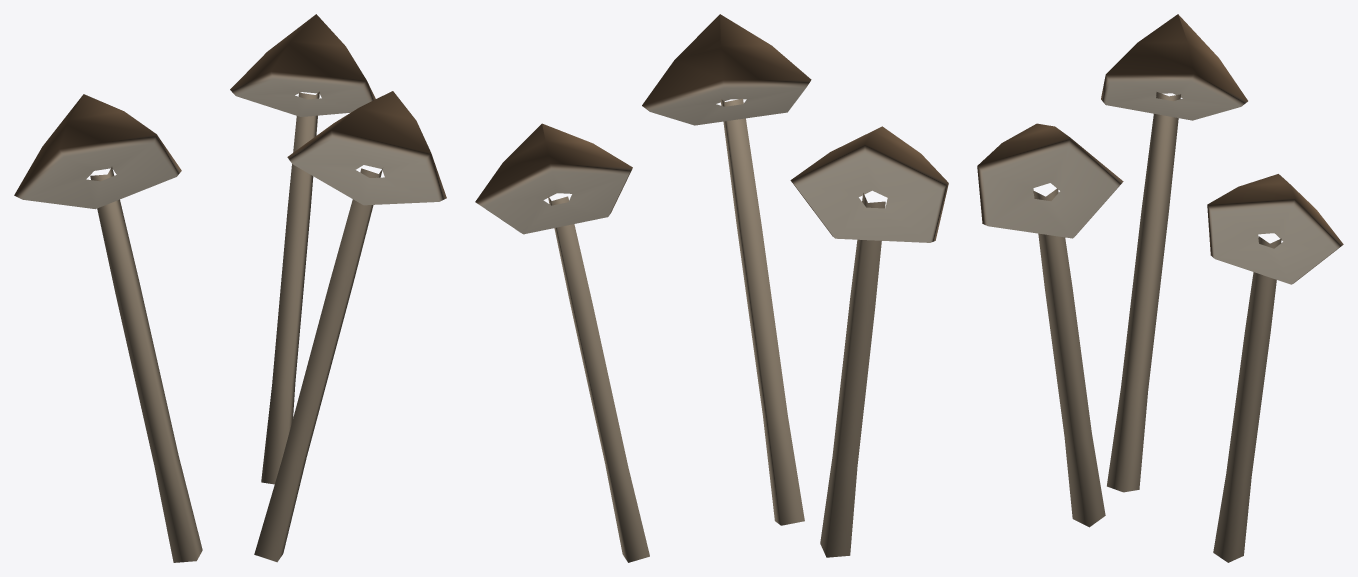
Rendered from mushroom-mycena-b.lod2.glb.
3 views of the same model, side by side, from view 1: azimuth 30°, elevation 25°; view 2: azimuth 150°, elevation 25°; view 3: azimuth 270°, elevation 25° (orthographic). The views are drawn at different scales.
Parts seen in each view (by area): view 1: mushroom-mycena-b.lod2; view 2: mushroom-mycena-b.lod2; view 3: mushroom-mycena-b.lod2.
Boxes of the visible parts, x1,y1,x2,y2 form: mushroom-mycena-b.lod2: (14, 14, 446, 562); mushroom-mycena-b.lod2: (475, 14, 948, 562); mushroom-mycena-b.lod2: (977, 14, 1343, 562).
Size of the model in its own units: 0.065 by 0.071 by 0.0534.
